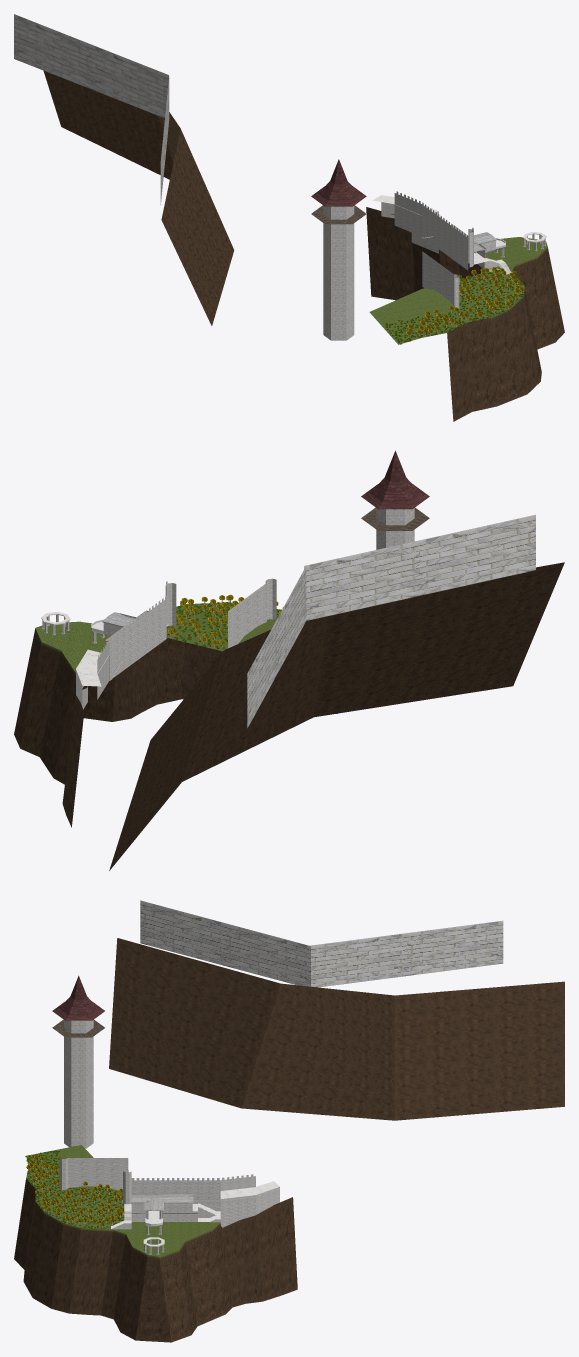
The model's file is MAP_BETA1.glb.
3 views of the same model, one above another, from view 1: azimuth 30°, elevation 25°; view 2: azimuth 150°, elevation 25°; view 3: azimuth 270°, elevation 25° (orthographic). The views are drawn at different scales.
Visible parts, largest first — view 1: Bellow Scenery Cliff, Back Scenery Mound, Back Scenery Mound Wall.001, Left Scenery Grass, Back Scenery Mother Tower, Tower Wall, Left Scenery Birch Tree, Left Scenery Bushes, Back Scenery Mother Tower Cap, Left Scenery Wall, Courtyard Floor, Right Stairs Middle Wall; view 2: Back Scenery Mound, Bellow Scenery Cliff, Back Scenery Mound Wall, Back Scenery Mound Wall.001, Tower Wall, Back Scenery Mother Tower Cap, Courtyard Floor, Left Scenery Grass, Left Scenery Wall, Left Scenery Birch Tree, Back Scenery Mother Tower, Right Stairs Middle Wall (+2 smaller); view 3: Back Scenery Mound, Bellow Scenery Cliff, Back Scenery Mound Wall.001, Back Scenery Mound Wall, Back Scenery Mother Tower, Left Scenery Grass, Tower Wall, Left Scenery Birch Tree, Courtyard Floor, Right Stairs Middle Wall, Left Scenery Wall, Left Scenery Bushes (+3 smaller).
Boxes of the visible parts, x1,y1,x2,y2 form: Bellow Scenery Cliff: [366, 207, 564, 421]; Back Scenery Mound: [43, 70, 234, 325]; Back Scenery Mound Wall.001: [14, 14, 168, 118]; Left Scenery Grass: [369, 271, 524, 344]; Back Scenery Mother Tower: [323, 205, 354, 340]; Tower Wall: [394, 193, 468, 270]; Left Scenery Birch Tree: [406, 267, 523, 337]; Left Scenery Bushes: [385, 270, 523, 344]; Back Scenery Mother Tower Cap: [311, 159, 366, 206]; Left Scenery Wall: [422, 251, 453, 305]; Courtyard Floor: [480, 237, 547, 272]; Right Stairs Middle Wall: [372, 195, 438, 253]; Back Scenery Mound: [109, 562, 564, 870]; Bellow Scenery Cliff: [14, 630, 337, 827]; Back Scenery Mound Wall: [304, 514, 535, 620]; Back Scenery Mound Wall.001: [247, 566, 306, 728]; Tower Wall: [97, 599, 166, 699]; Back Scenery Mother Tower Cap: [361, 450, 429, 509]; Courtyard Floor: [35, 621, 110, 671]; Left Scenery Grass: [166, 602, 279, 651]; Left Scenery Wall: [228, 583, 266, 648]; Left Scenery Birch Tree: [147, 594, 283, 648]; Back Scenery Mother Tower: [376, 508, 414, 549]; Right Stairs Middle Wall: [76, 649, 109, 709]; Back Scenery Mound: [109, 938, 564, 1120]; Bellow Scenery Cliff: [14, 1179, 297, 1342]; Back Scenery Mound Wall.001: [310, 920, 503, 987]; Back Scenery Mound Wall: [140, 900, 310, 986]; Back Scenery Mother Tower: [64, 1020, 93, 1148]; Left Scenery Grass: [26, 1145, 124, 1229]; Tower Wall: [131, 1176, 255, 1211]; Left Scenery Birch Tree: [26, 1154, 124, 1228]; Courtyard Floor: [103, 1222, 219, 1256]; Right Stairs Middle Wall: [220, 1181, 279, 1227]; Left Scenery Wall: [68, 1158, 128, 1190]; Left Scenery Bushes: [25, 1150, 124, 1229].
Size of what is drawn, in the model's own units: 381 by 231 by 456.
53 materials, 53 textured.
